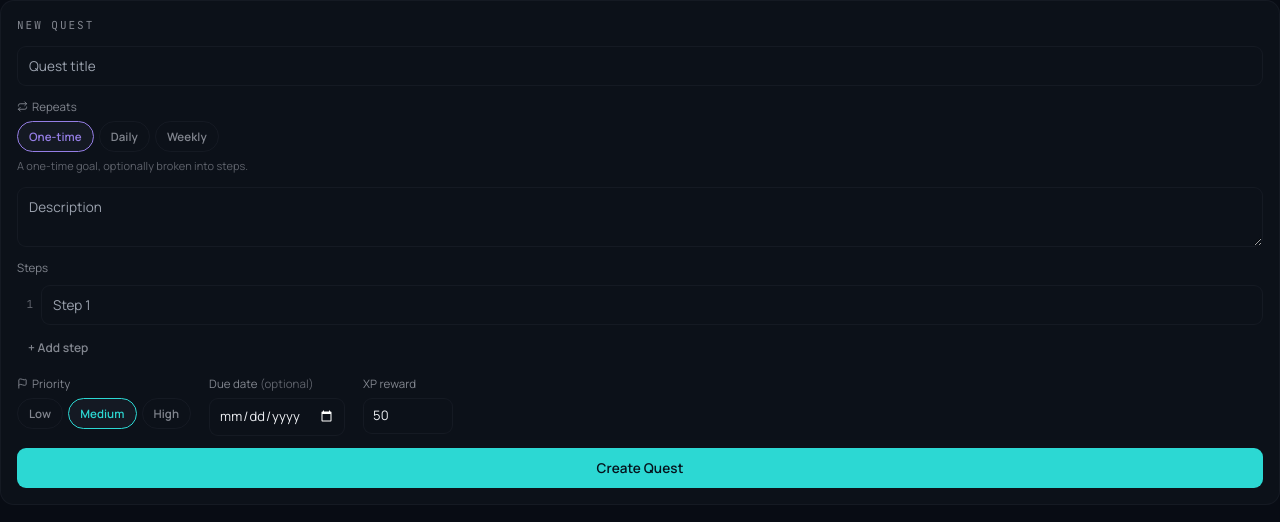
Test: QuestForm › recurring (habit) mode › hides description, steps, priority, and due date once Daily/Weekly is picked
Click the radio button labelled "Daily" at {"x": 124, "y": 137}, box x1=99 y1=121 x2=150 y2=152
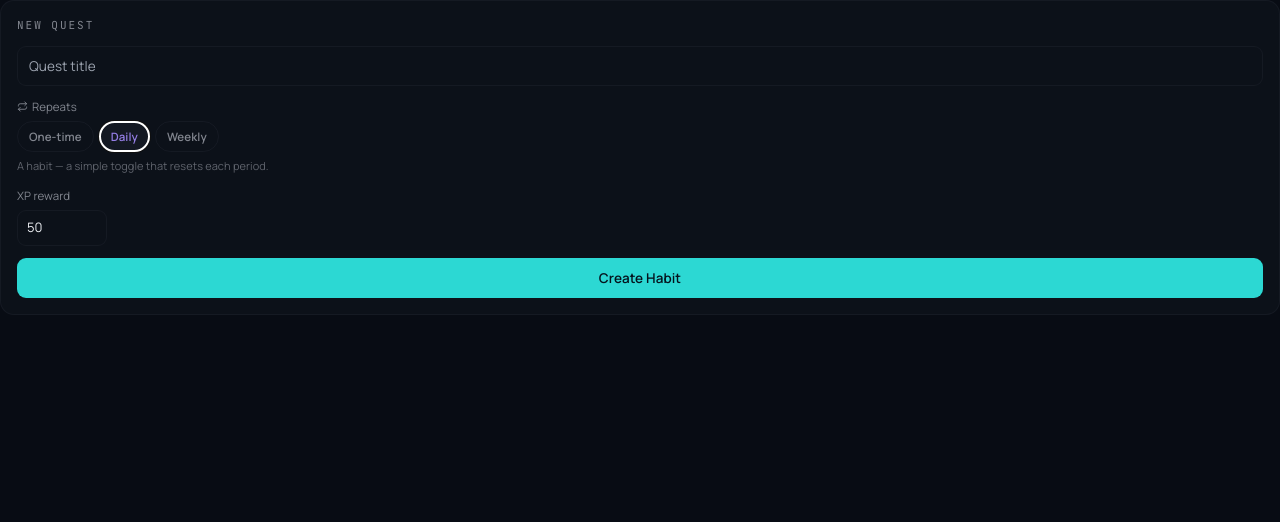
Expected: the text box labelled "Quest description" is gone
Expected: the element "Priority" is gone
Expected: the button "Create Habit" is shown, x1=17 y1=258 x2=1263 y2=298
